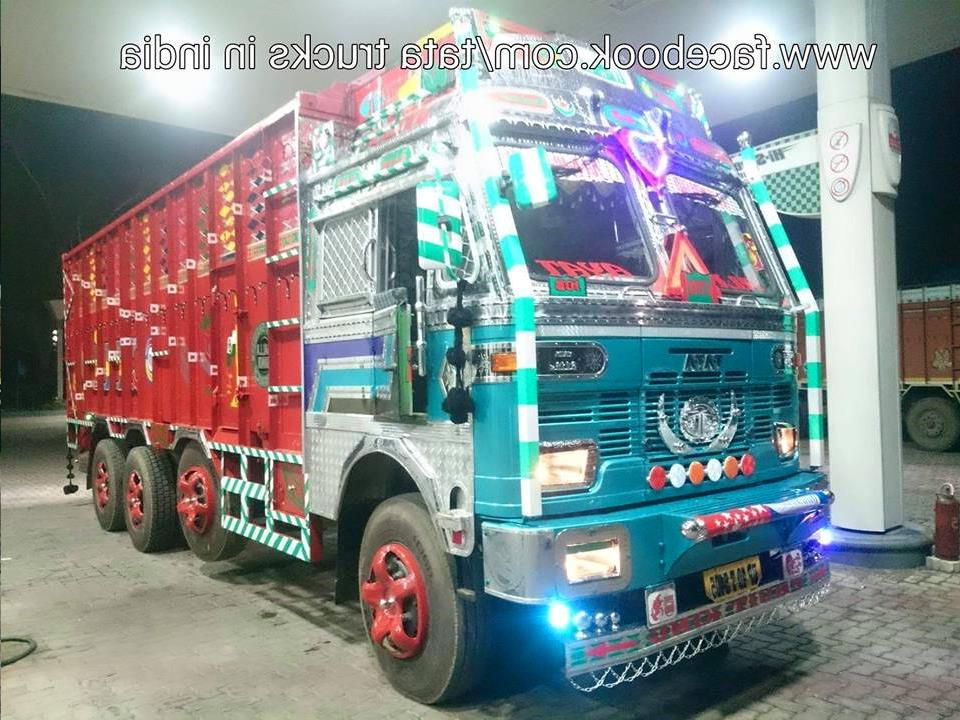truck: (30, 68, 829, 688)
